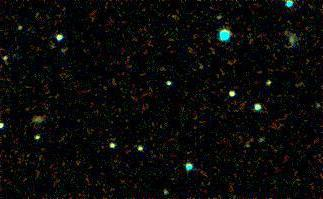star: (26, 127, 56, 157)
